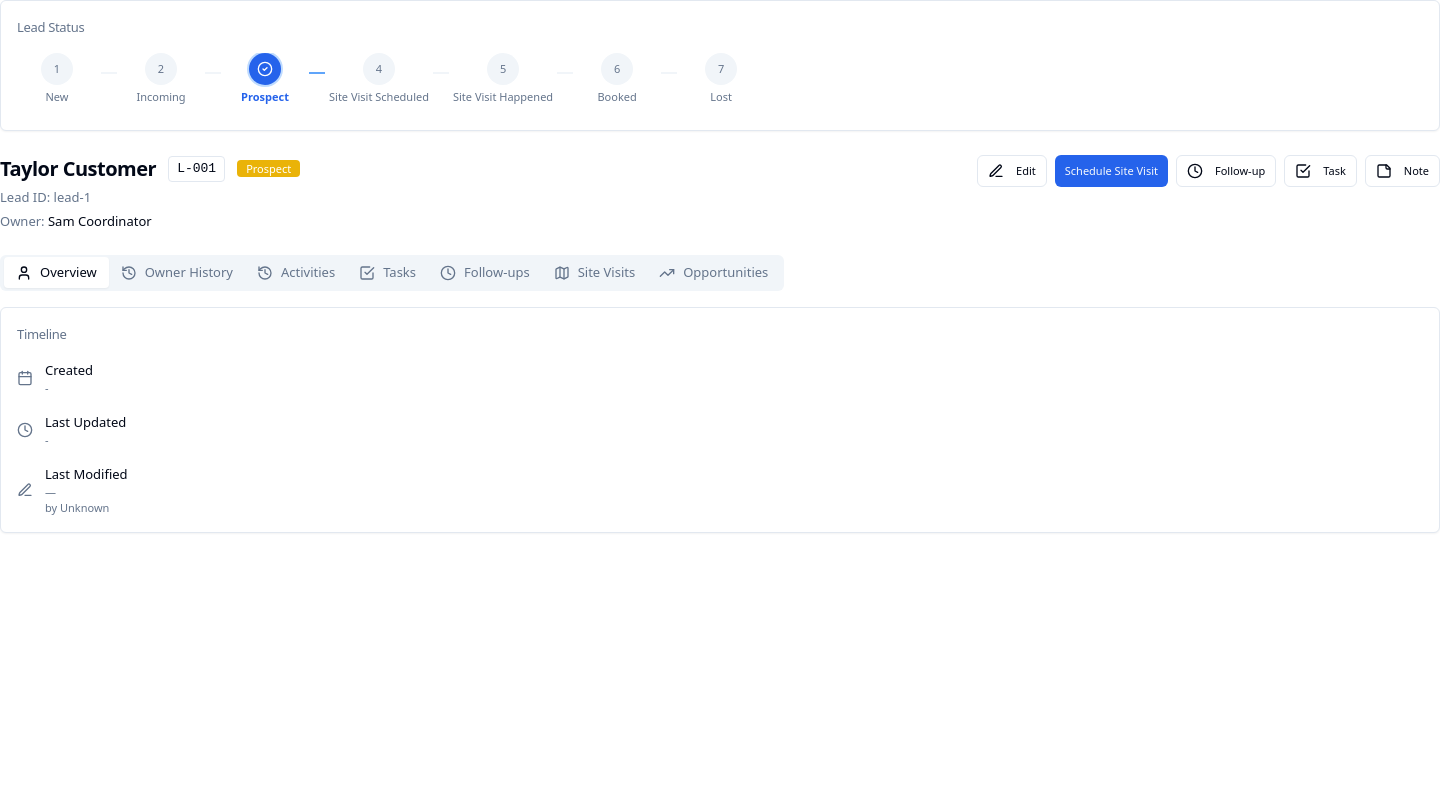
Scenario: SVC Site Visit project selection › shows project-load errors inline and retries without an unhandled rejection
Click the button "Schedule Site Visit" at (1111, 170), box [1055,154,1168,186]
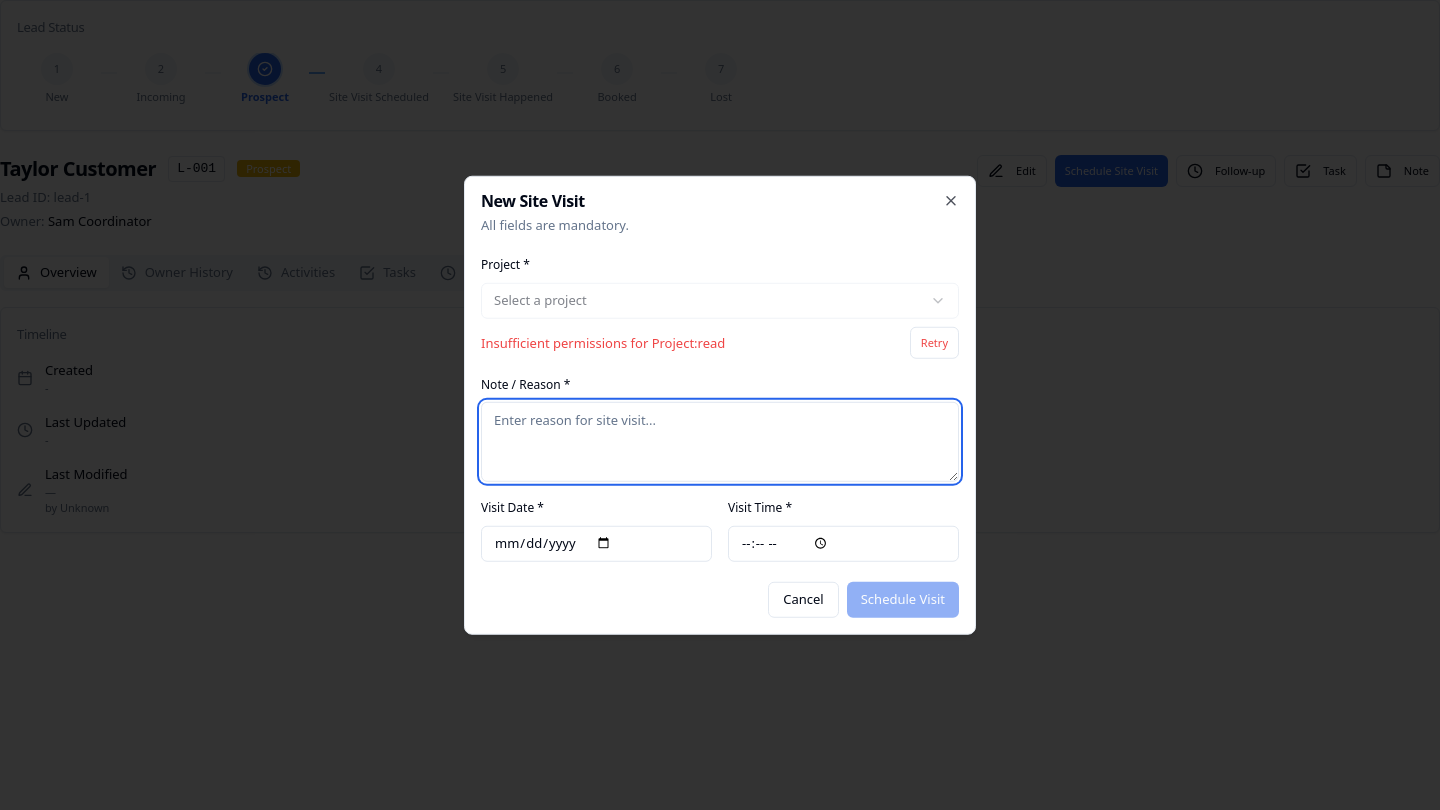
Result: the message shows "Insufficient permissions for Project:read" at [481,333,725,351]
Click the button "Retry" at (934, 342), box [910,326,959,358]
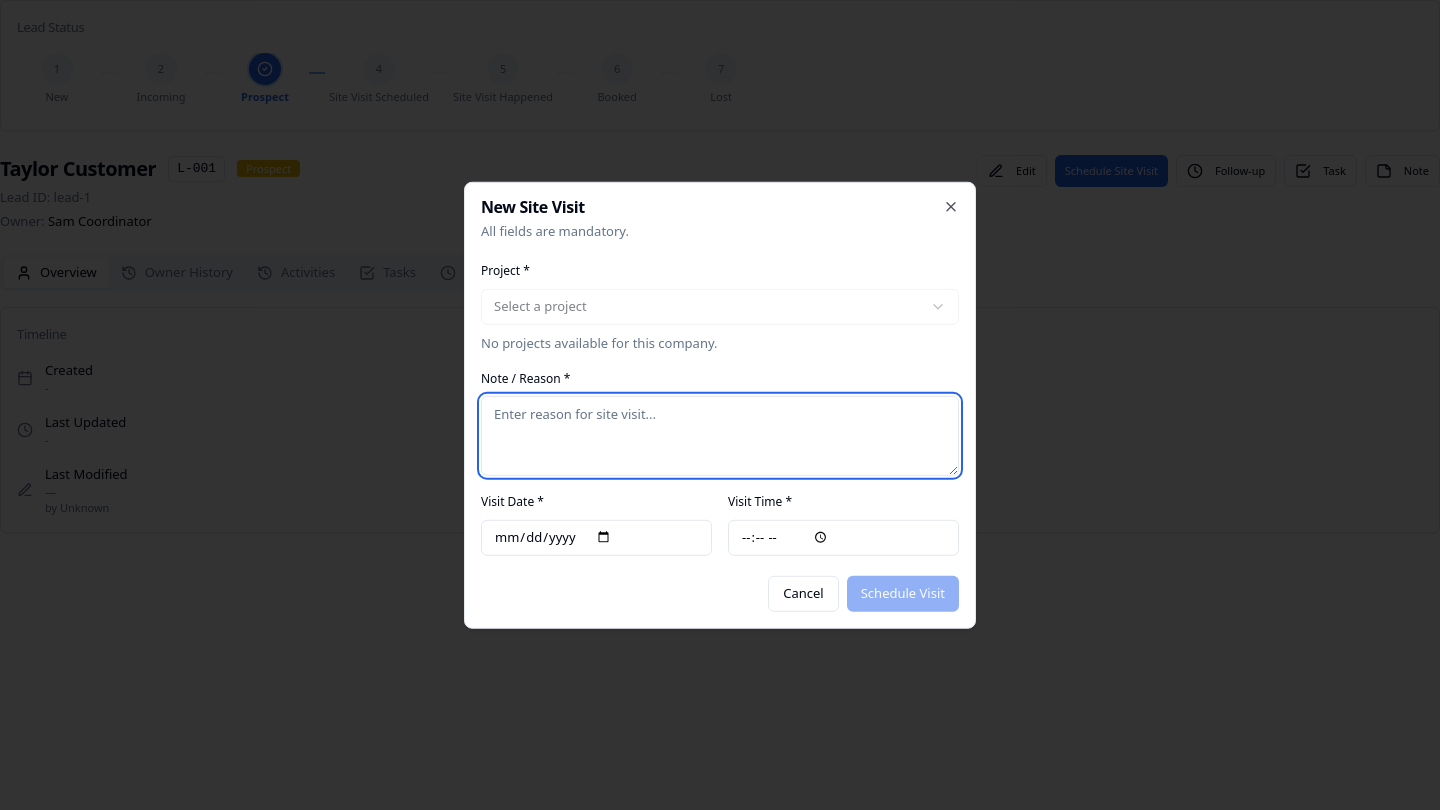
Result: the message reads "No projects available for this company." at [481,333,718,351]
